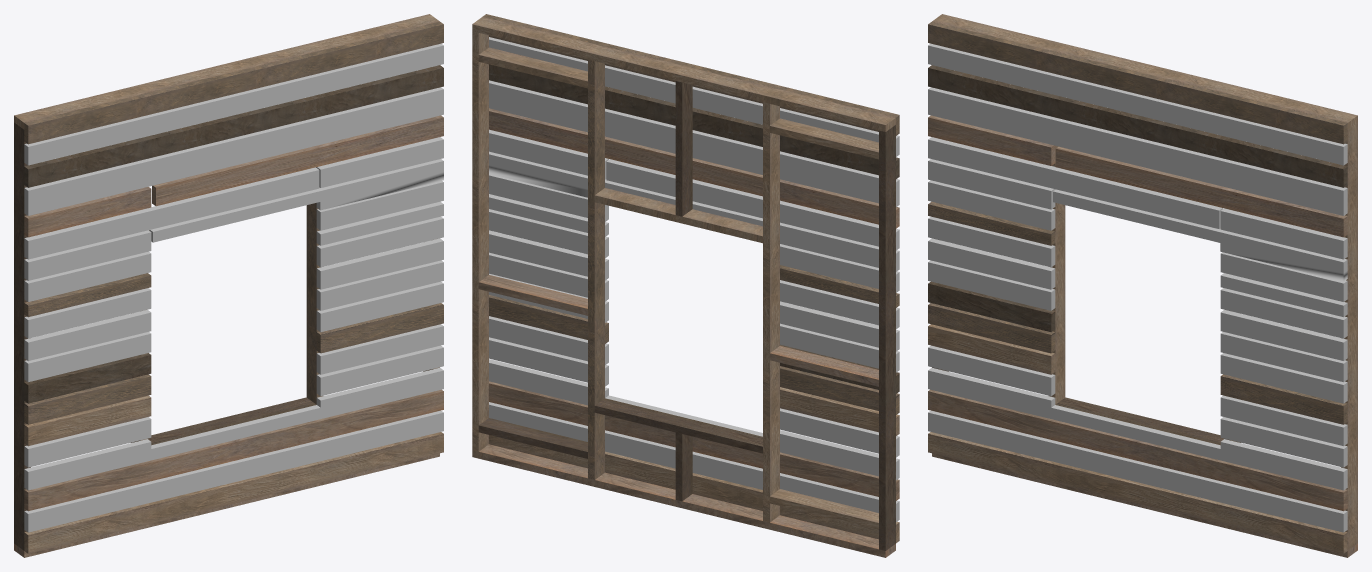
The model's file is WallPeiceWindowA.fbx.
The picture shows the model from 3 angles, left to right: view 1: azimuth 30°, elevation 25°; view 2: azimuth 150°, elevation 25°; view 3: azimuth 330°, elevation 25°; orthographic projection.
Parts seen in each view (by area): view 1: WallPeiceWindowA; view 2: WallPeiceWindowA; view 3: WallPeiceWindowA.
Boxes of the visible parts, x1,y1,x2,y2 form: WallPeiceWindowA: (14, 14, 443, 557); WallPeiceWindowA: (472, 14, 899, 557); WallPeiceWindowA: (928, 14, 1357, 557).
Size of the model in its own units: 374 by 374 by 22.
